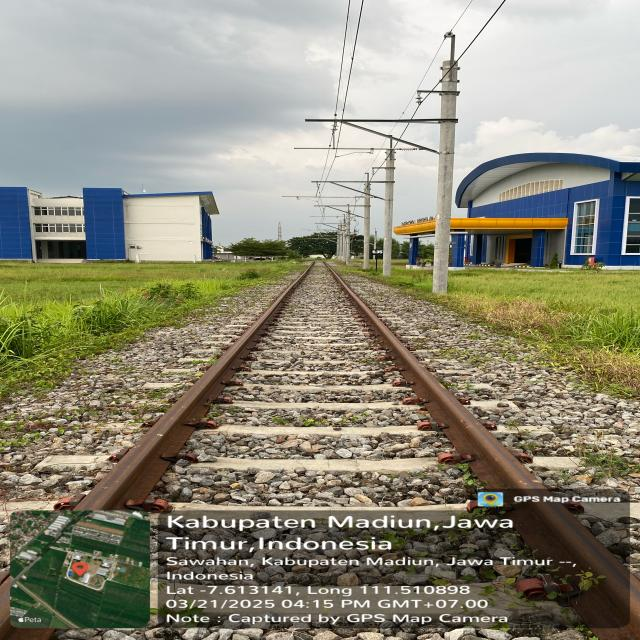rail-detection: (76, 259, 315, 510), (323, 260, 546, 499), (511, 500, 637, 637)
